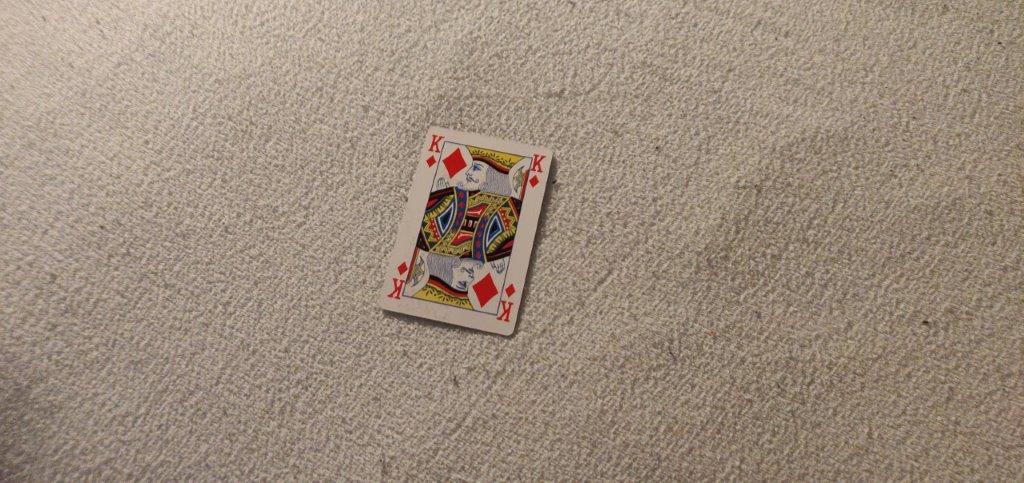KD: (423, 129, 444, 171), (527, 151, 548, 192)
